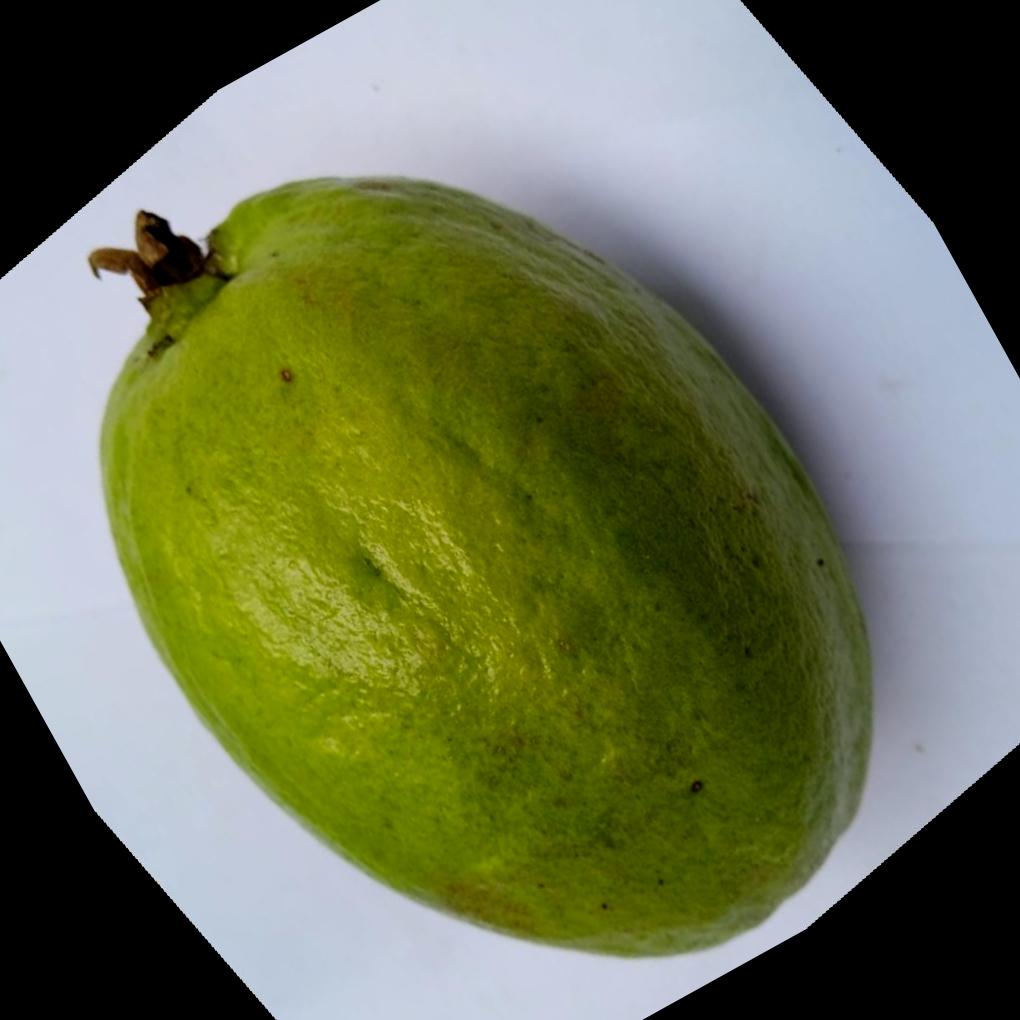FreshGuava: (93, 170, 874, 958)
